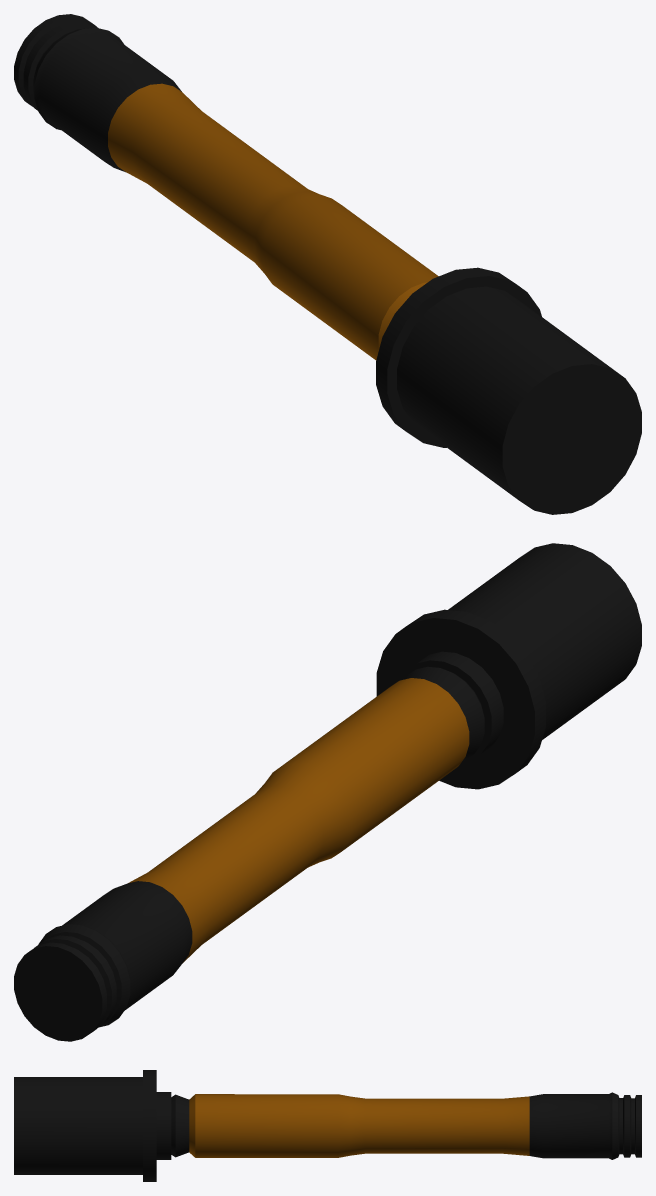
The model's file is m24_grenade.glb.
The picture shows the model from 3 angles, top to bottom: view 1: azimuth 30°, elevation 25°; view 2: azimuth 150°, elevation 25°; view 3: azimuth 270°, elevation 25°; orthographic projection. The views are drawn at different scales.
Parts seen in each view (by area): view 1: M24_Stick_Grenade; view 2: M24_Stick_Grenade; view 3: M24_Stick_Grenade.
Part boxes in pixels (left/top/right/bottom): M24_Stick_Grenade: left=14, top=14, right=641, bottom=514; M24_Stick_Grenade: left=14, top=543, right=641, bottom=1041; M24_Stick_Grenade: left=14, top=1070, right=641, bottom=1181.
Size of the model in its own units: 1.99 by 2.01 by 11.16.
Materials: 2 (2 with a texture image).
